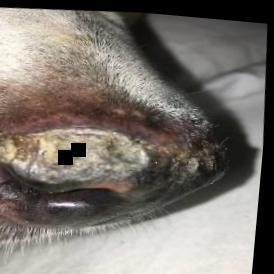keratosis: (0, 103, 238, 218)
